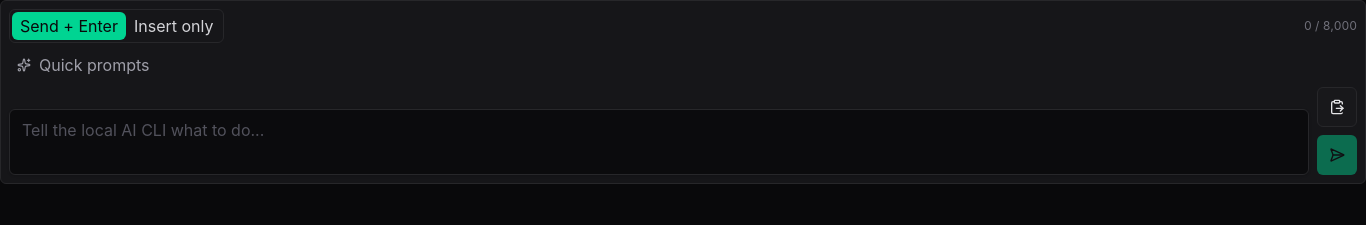
Test: keeps the draft and shows a recoverable async preparation failure
The width and height of the screenshot is (1366, 225).
Type "review staged files" into the text box at [659, 142], box [9,109,1309,175]
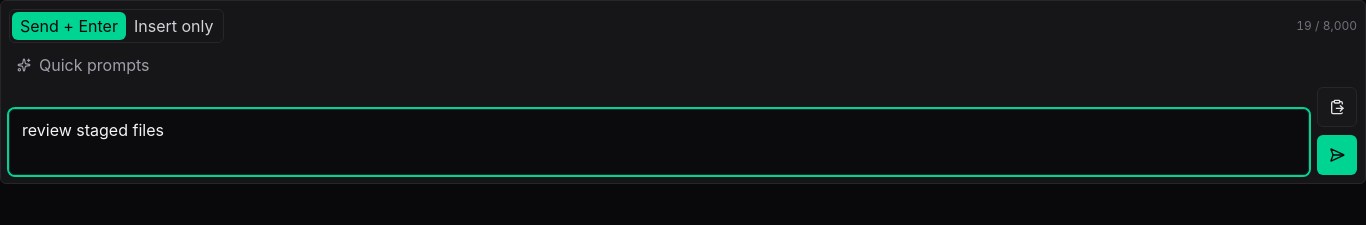
Click the 2nd button named "Send prompt" at [1337, 155], box [1317,135,1357,175]
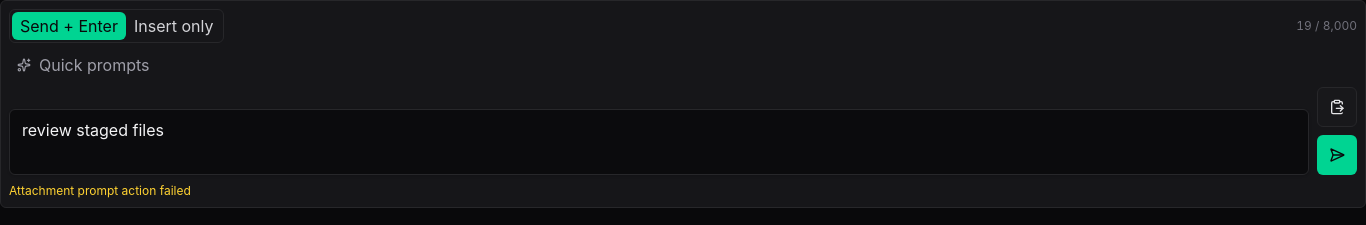
Expected: the text "Attachment prompt action failed" is shown, [9,183,191,198]
